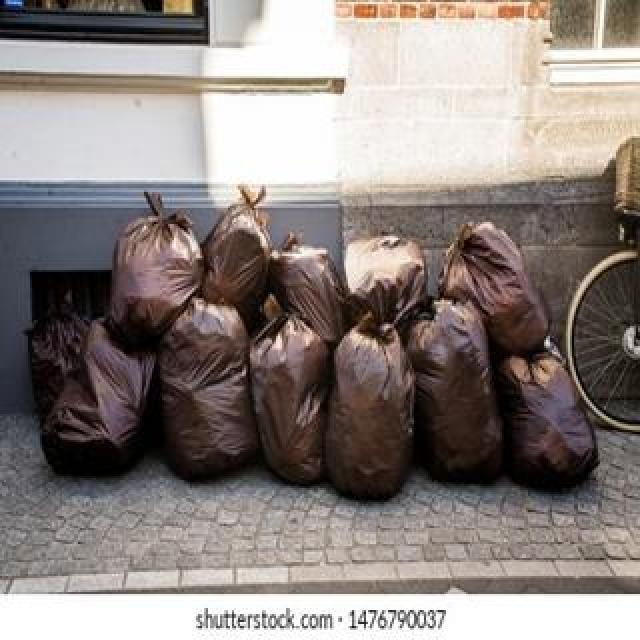high trash: (32, 186, 598, 498)
